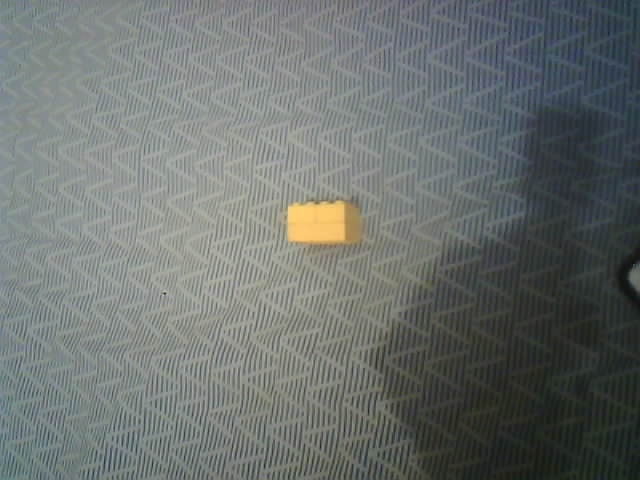lego: (285, 200, 363, 245)
